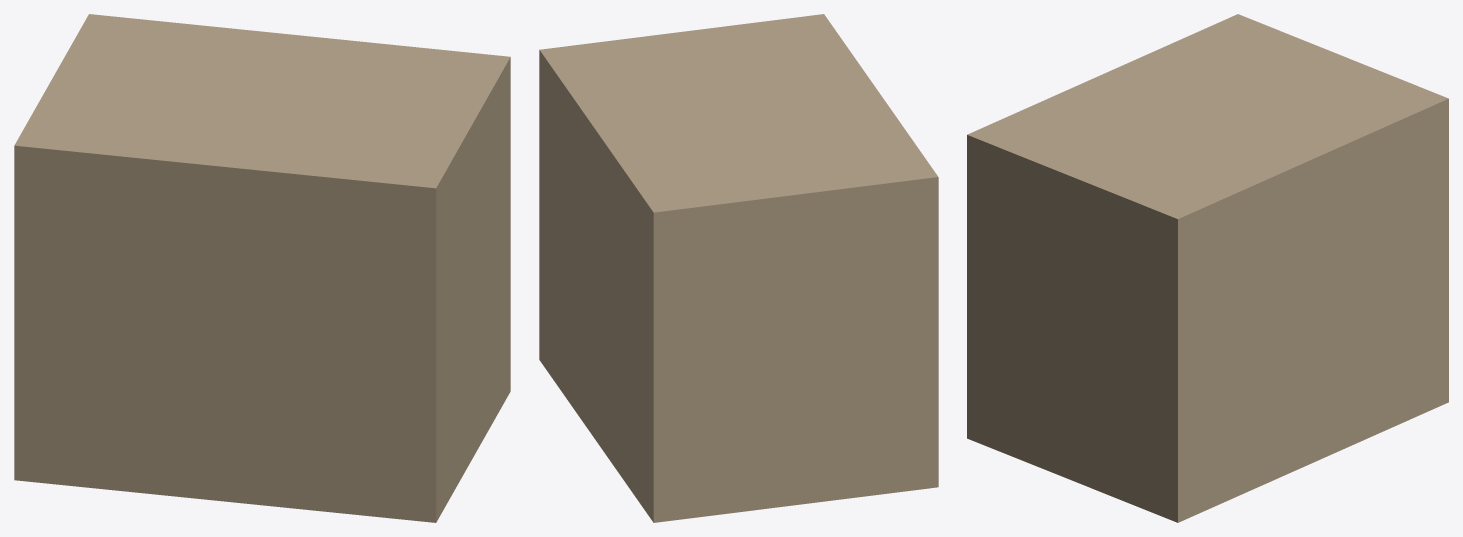
The model's file is bld_100469366.dae.
3 views of the same model, side by side, from view 1: azimuth 30°, elevation 25°; view 2: azimuth 150°, elevation 25°; view 3: azimuth 270°, elevation 25° (orthographic). The views are drawn at different scales.
Visible parts, largest first — view 1: bld_100469366; view 2: bld_100469366; view 3: bld_100469366.
Part boxes in pixels (x1,y1,x2,y2): bld_100469366: (14, 14, 510, 522); bld_100469366: (539, 14, 938, 522); bld_100469366: (967, 14, 1448, 522).
Bounding box in the file's own units: 11.59 × 11.5 × 8.
